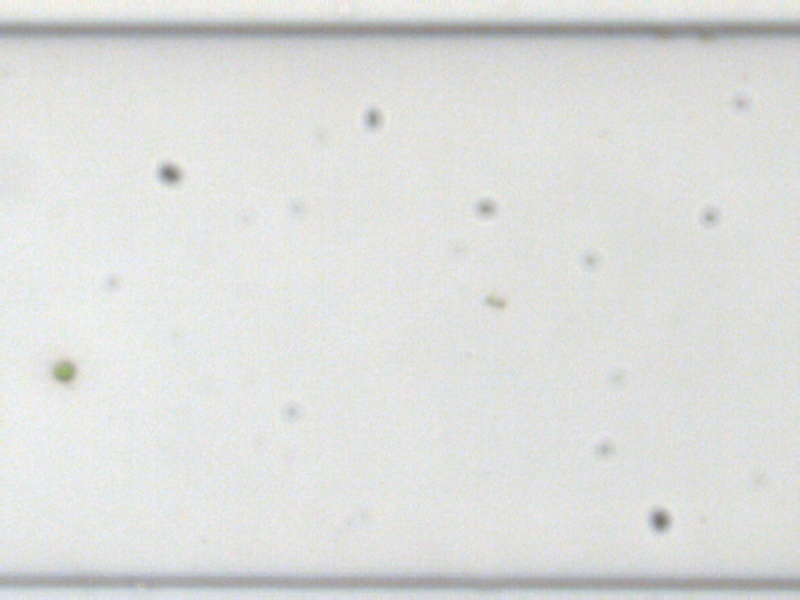Chlorella: (51, 357, 71, 382)
